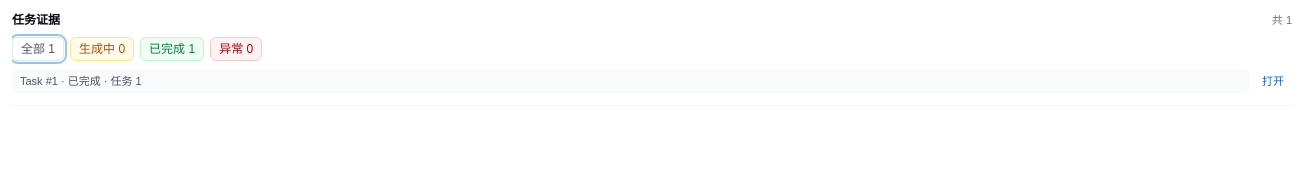
it: ProductionCanvasGraph › shows an empty state when a task summary filter has no matches
Click the button with aria-label "筛选异常任务" at {"x": 236, "y": 48}, box [210, 36, 262, 60]
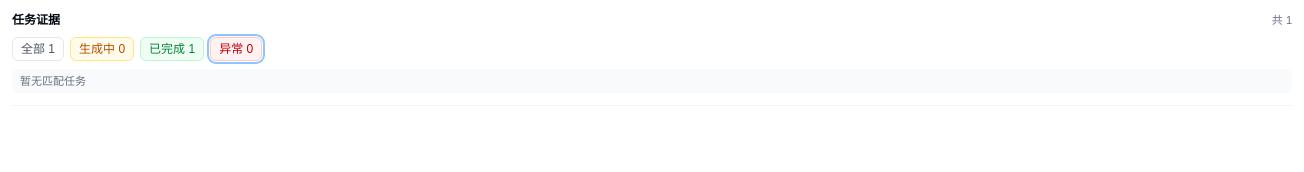
Check: the text "暂无匹配任务" is shown, box [12, 68, 1292, 93]
Check: the button "Task #1 · 已完成 · 任务 1" is gone
